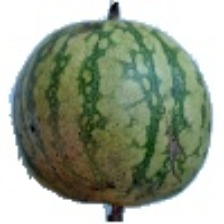watermelon: (30, 50, 199, 206)
